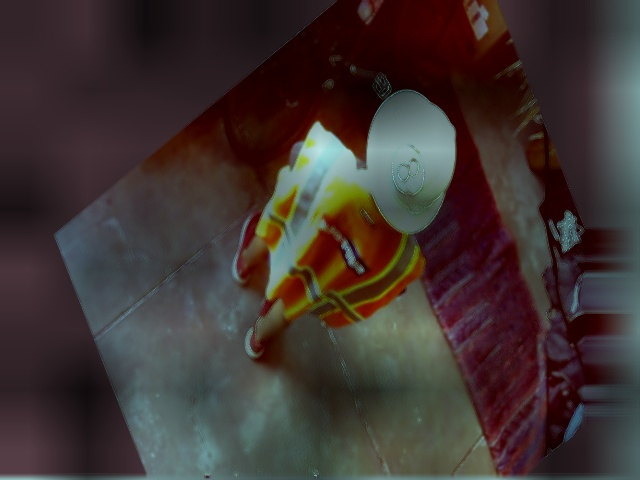eight: (384, 133, 431, 204)
